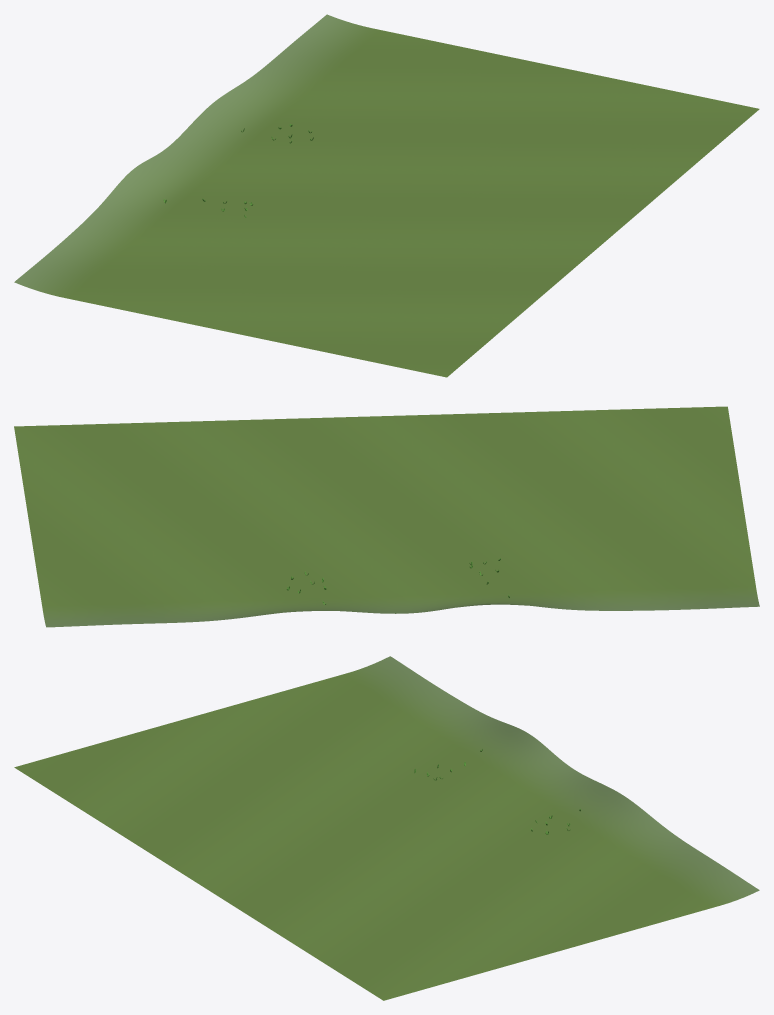
The model's file is passive_environment.glb.
3 renders of one model, top to bottom at view 1: azimuth 30°, elevation 25°; view 2: azimuth 150°, elevation 25°; view 3: azimuth 270°, elevation 25°, orthographic. The views are drawn at different scales.
Parts seen in each view (by area): view 1: Environment | continuous gentle field; view 2: Environment | continuous gentle field; view 3: Environment | continuous gentle field.
Boxes of the visible parts, left/top/right/bottom form: Environment | continuous gentle field: left=14, top=14, right=759, bottom=377; Environment | continuous gentle field: left=14, top=406, right=759, bottom=627; Environment | continuous gentle field: left=14, top=656, right=759, bottom=1000.
Size of the model in its own units: 38.72 by 0.7886 by 35.91.
